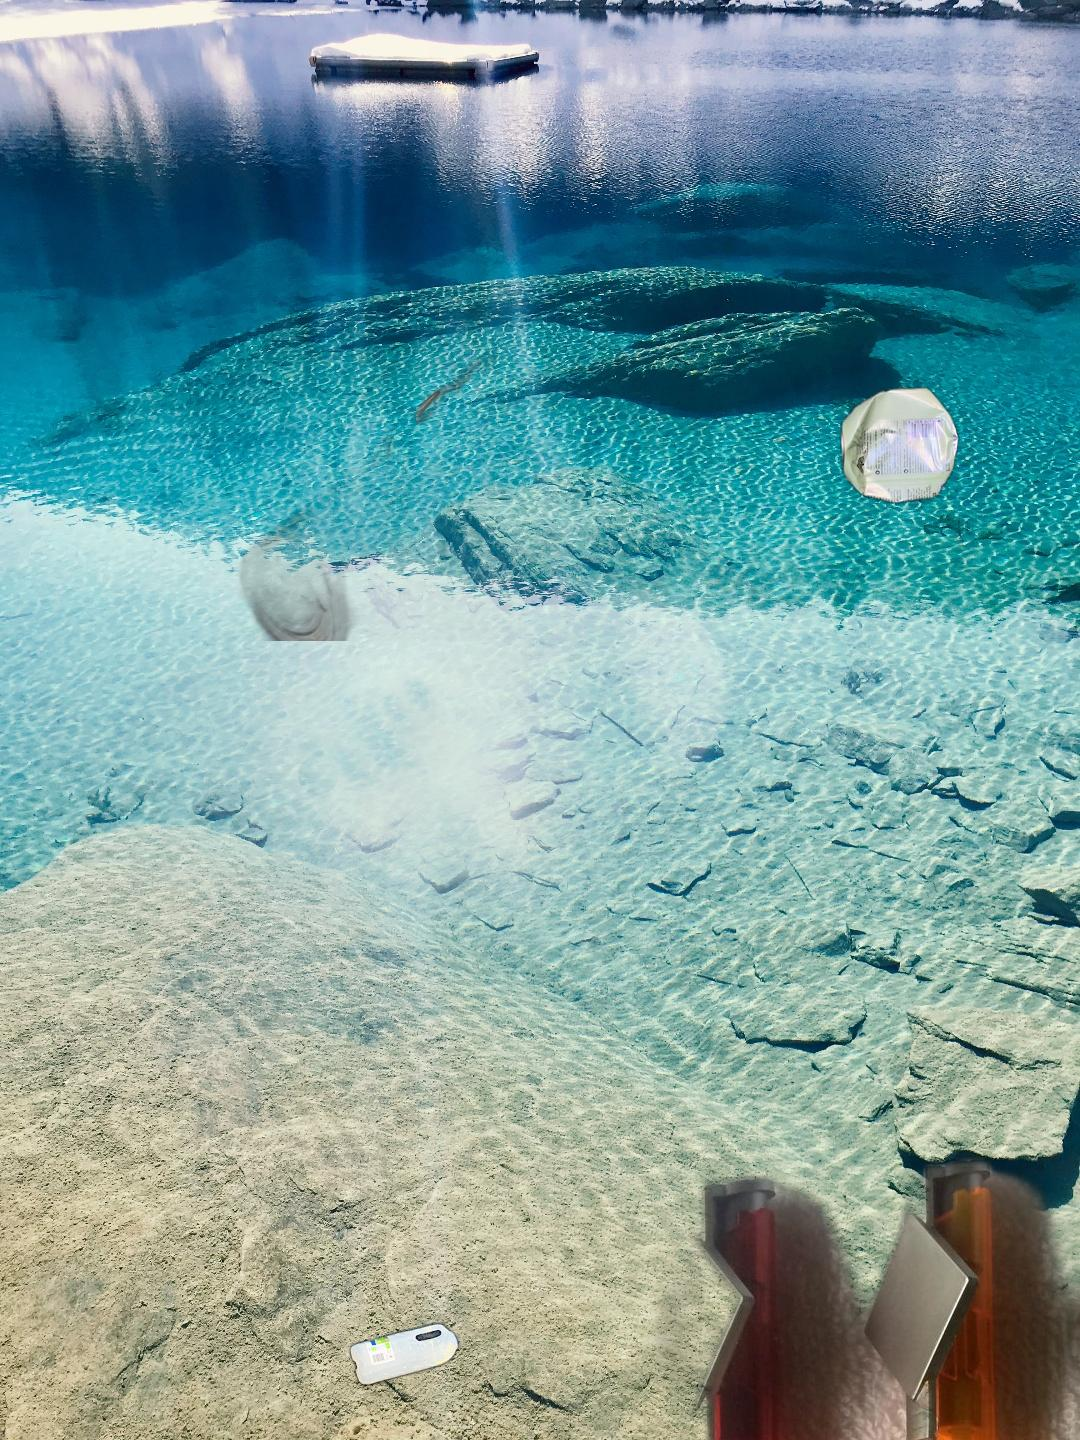glass: (211, 257, 723, 641)
metal-cans: (836, 381, 963, 509)
paper-bag: (886, 1313, 1017, 1412)
penholder: (640, 1091, 1080, 1440)
plastic-bottles: (32, 1317, 464, 1440)
